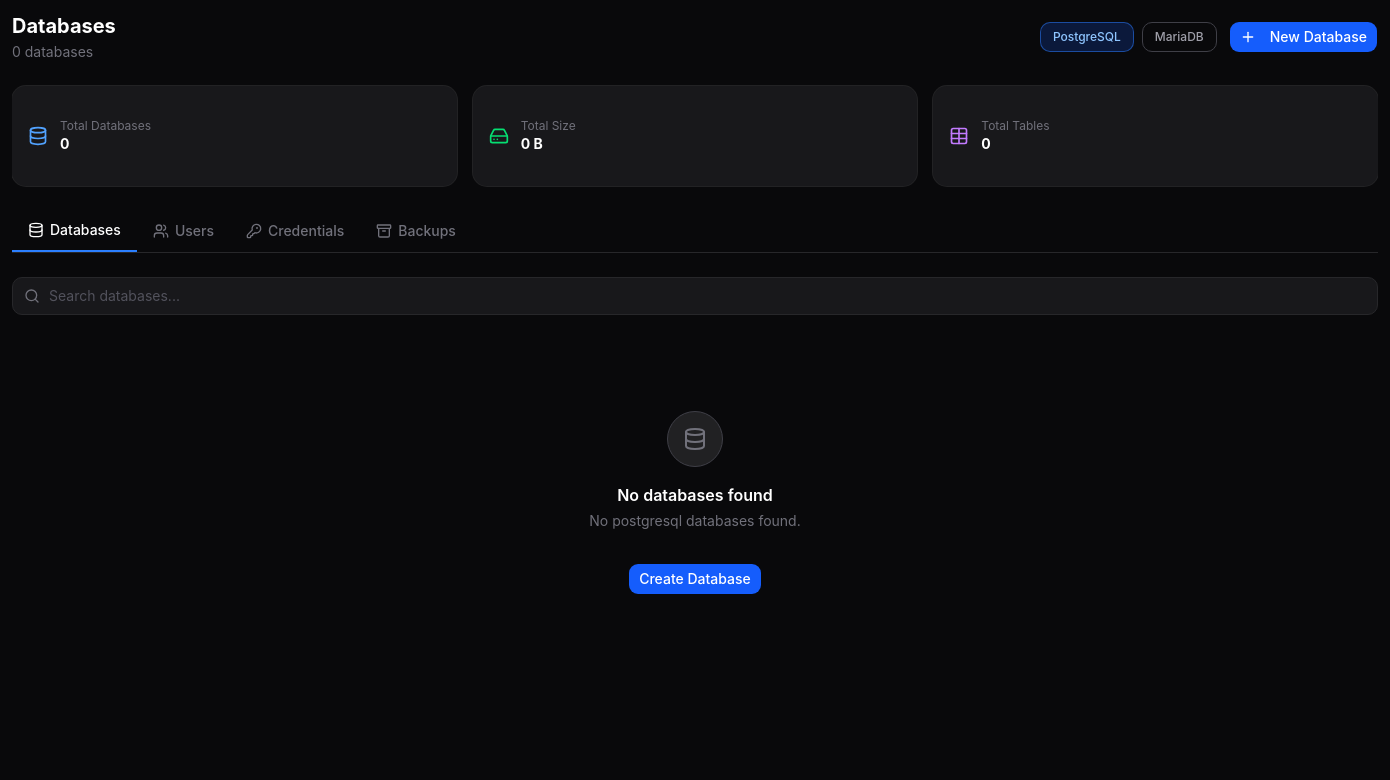
Database page failure states › keeps user inventory failures distinct from an empty user list
Expected: the heading "No databases found" is shown, [617,483,773,507]
Click the button "Users" at (183, 231), box [137,210,230,252]
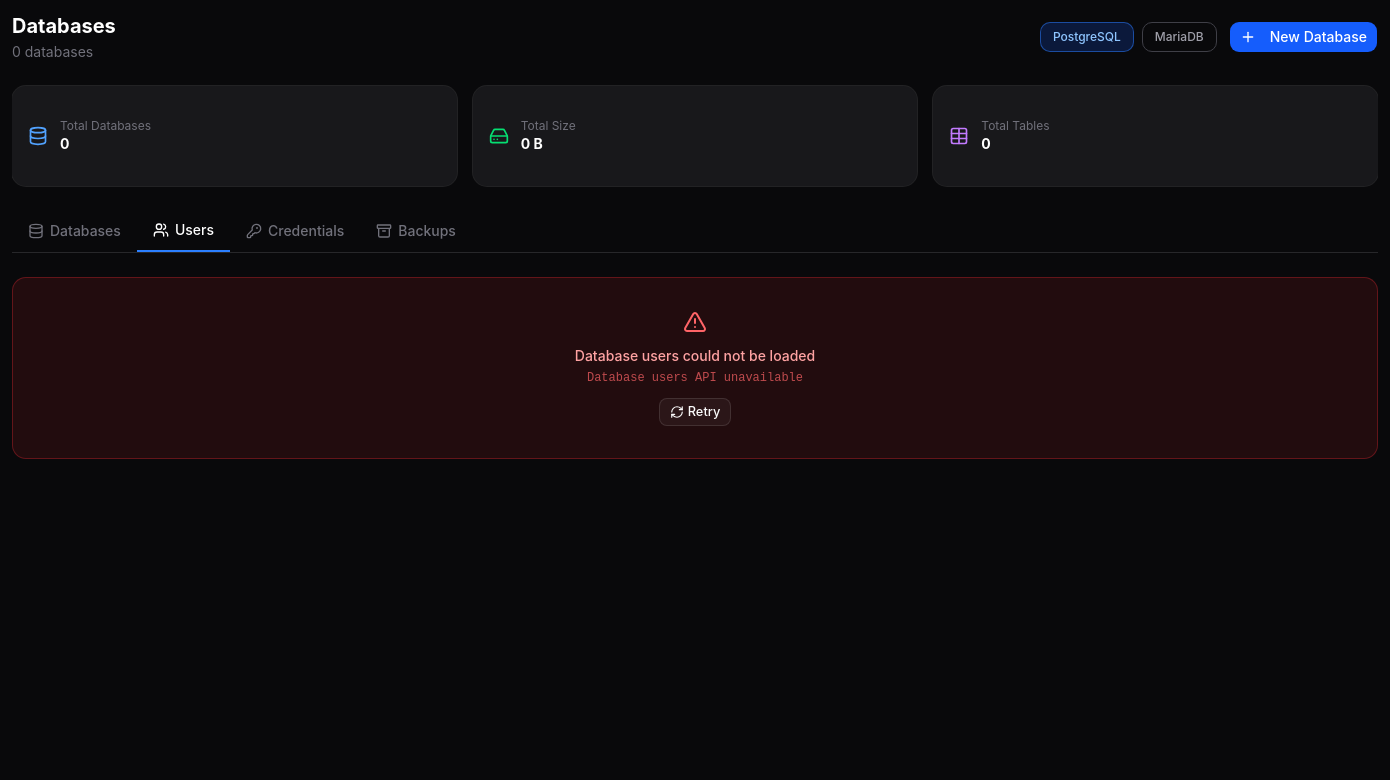
Result: the text "Database users could not be loaded" is shown at [575,346,815,366]
Result: the text "Database users API unavailable" is shown at [575,370,815,386]
